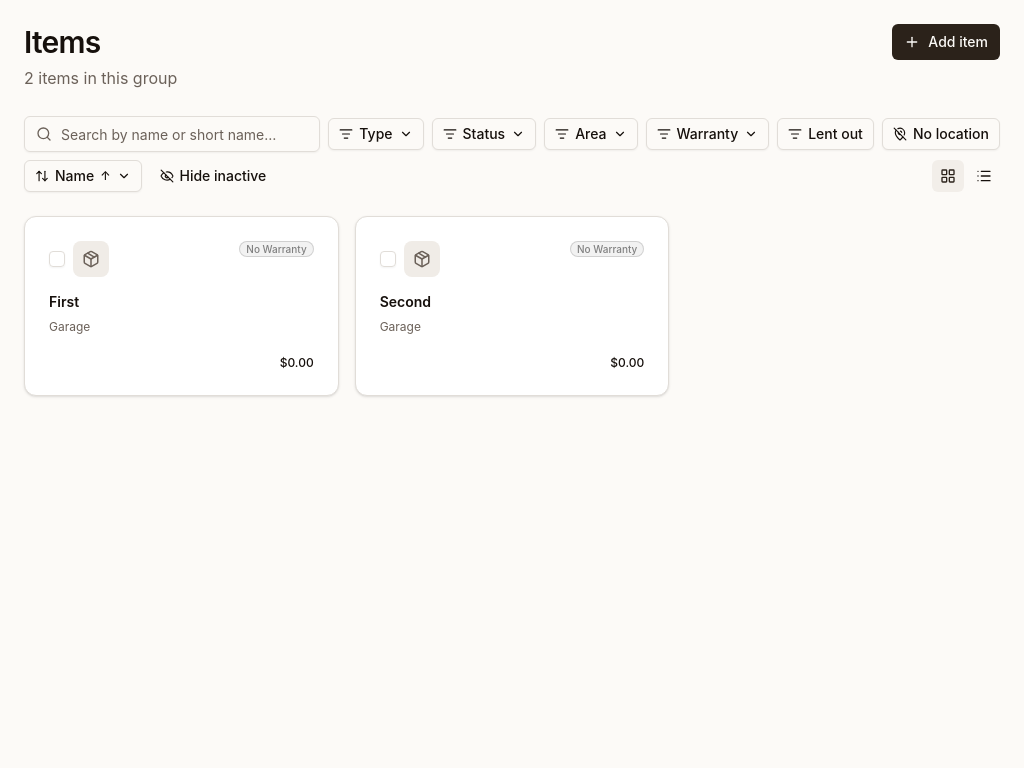
Test case: <CommoditiesListPage /> › confirms a bulk delete and clears the selection
Click the checkbox with test id "commodity-select". click: (57, 259)
box: top-left (49, 251), bottom-right (65, 267)
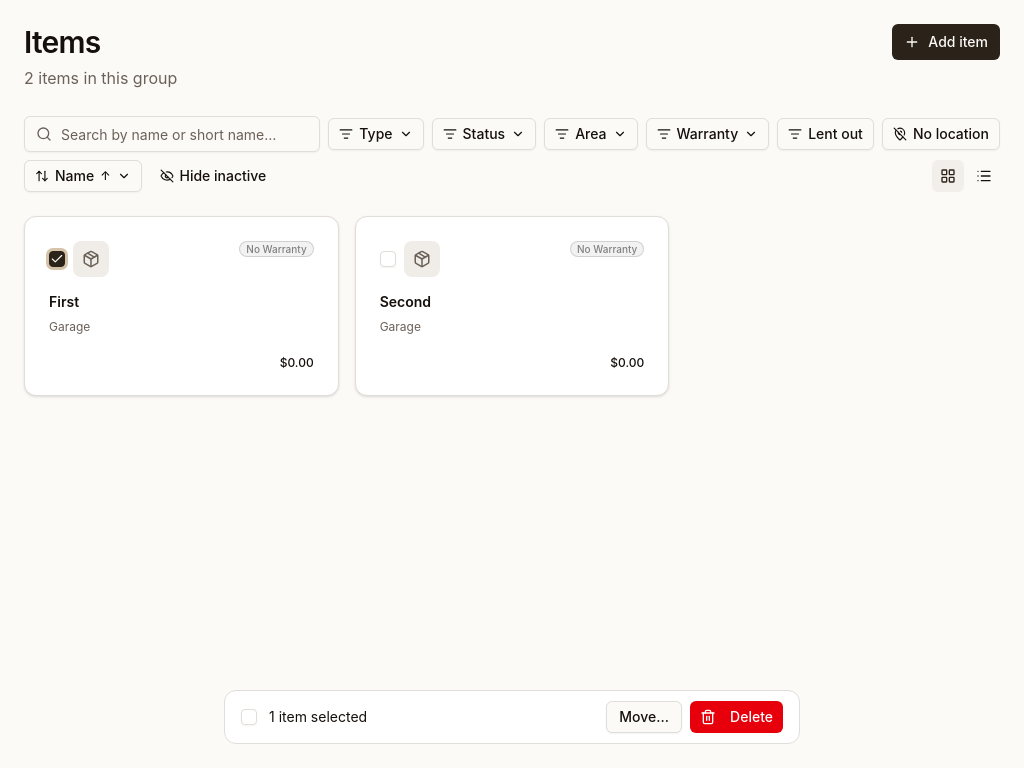
Click the checkbox with test id "commodity-select". click: (388, 259)
box: top-left (380, 251), bottom-right (396, 267)
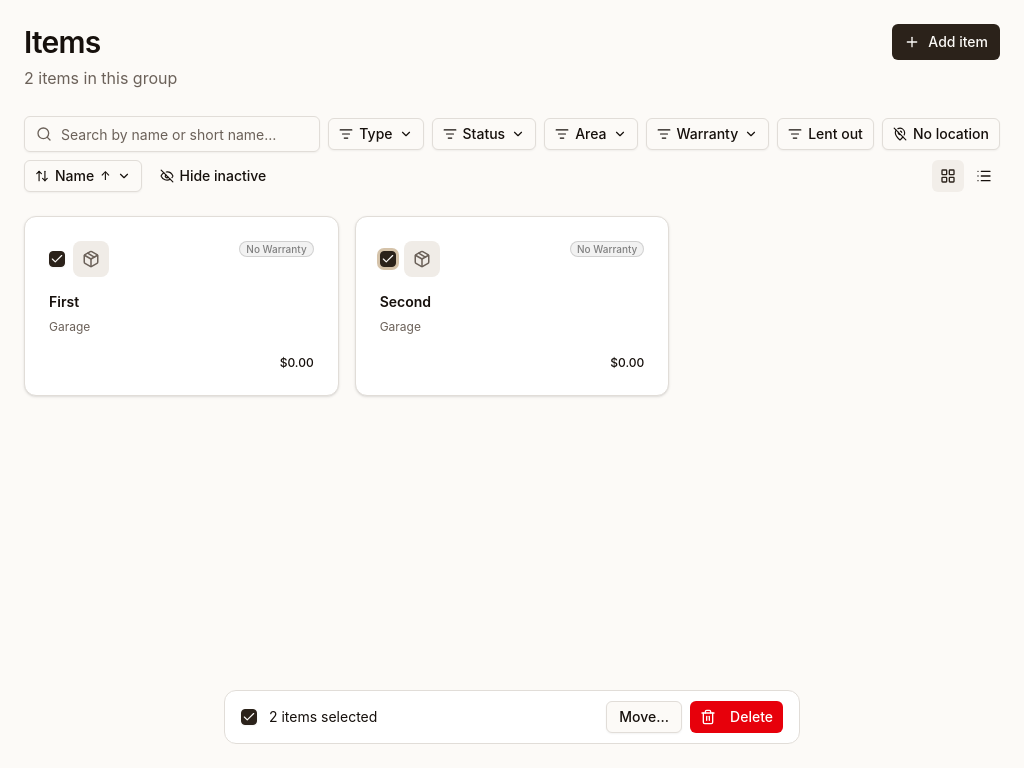
Click the button with test id "commodities-bulk-delete". click: (737, 717)
box: top-left (690, 701), bottom-right (783, 733)
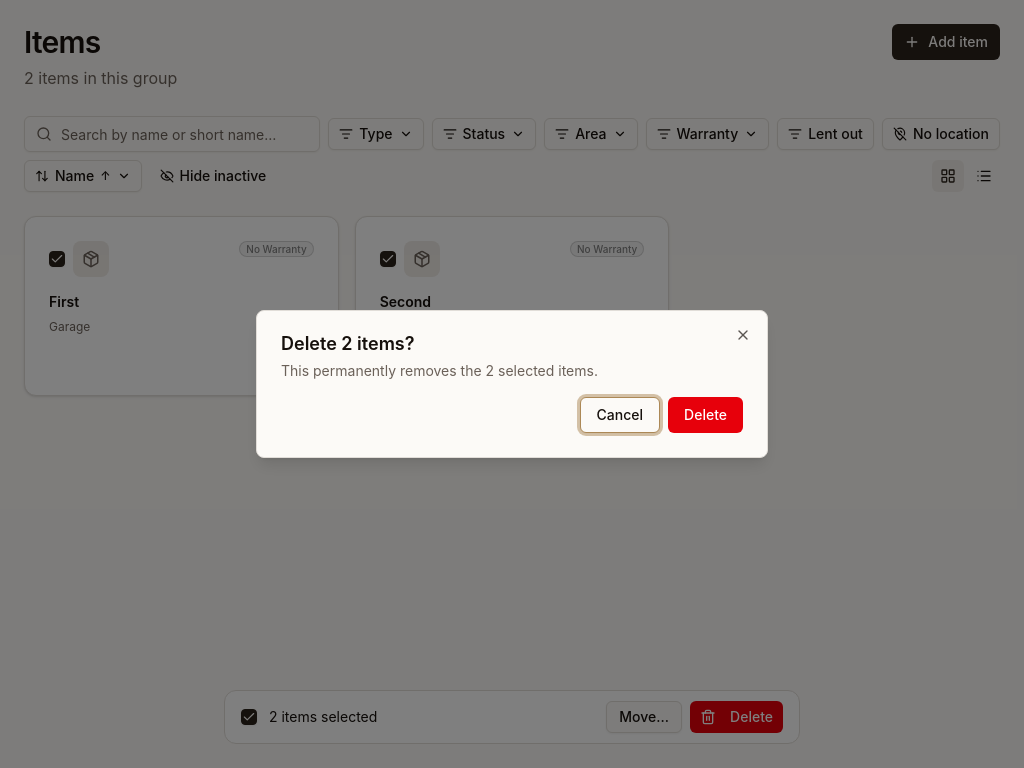
Click the button "Delete". click: (706, 415)
box: top-left (668, 397), bottom-right (743, 433)
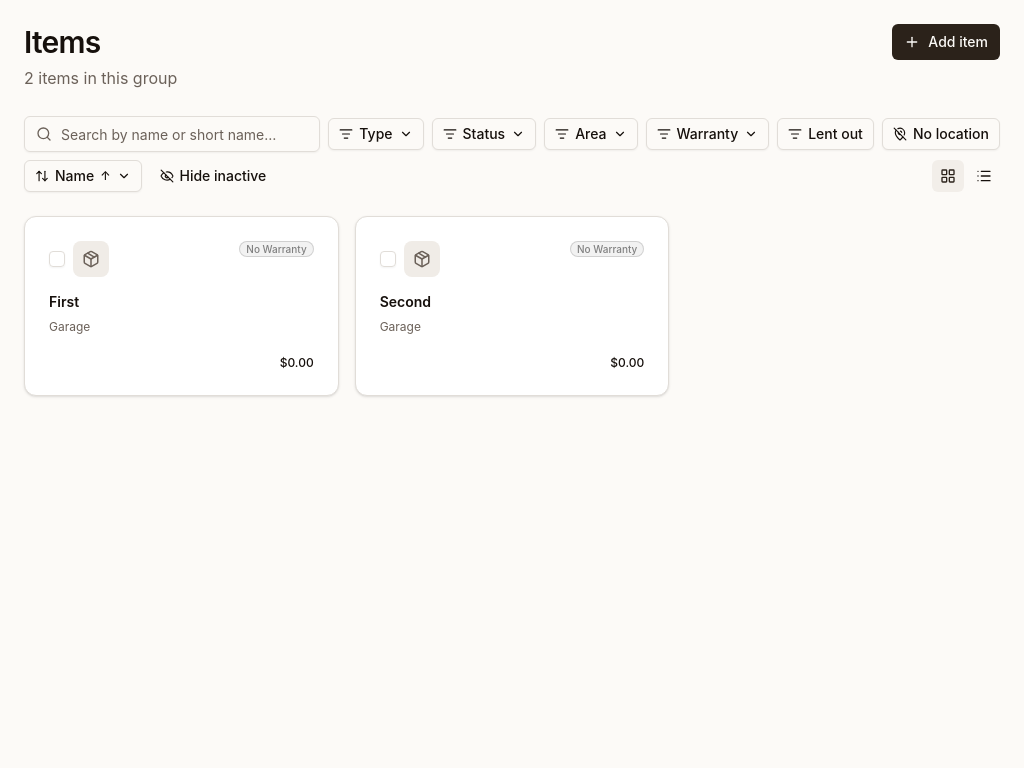
Expected: the element with test id "commodities-bulk-bar" is gone
